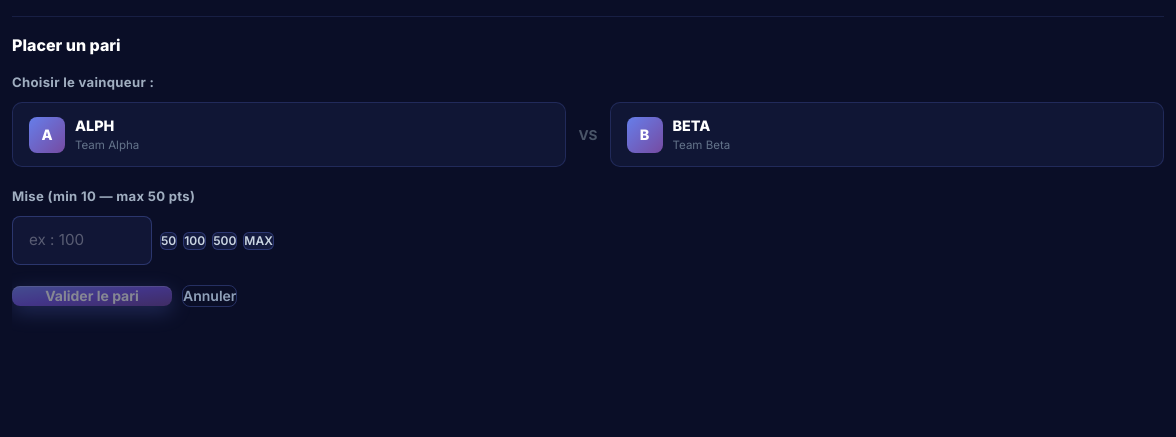
PariForm › affiche une erreur si mise supérieure au solde
Click the text "ALPH": (95, 126) [75,117,114,134]
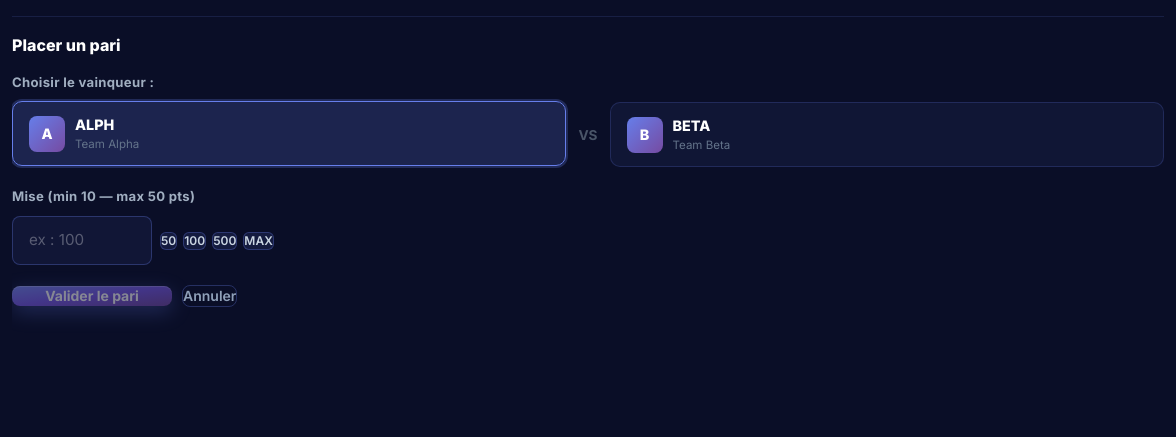
In the number field: (82, 241) [12,216,152,265], type "200"
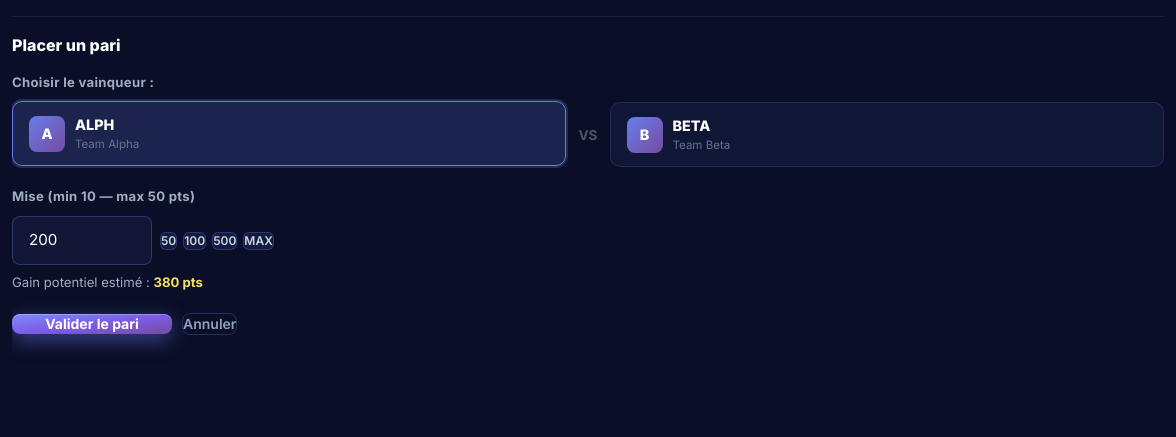
Submit the form named "Valider le pari", box [12,73,1164,335]
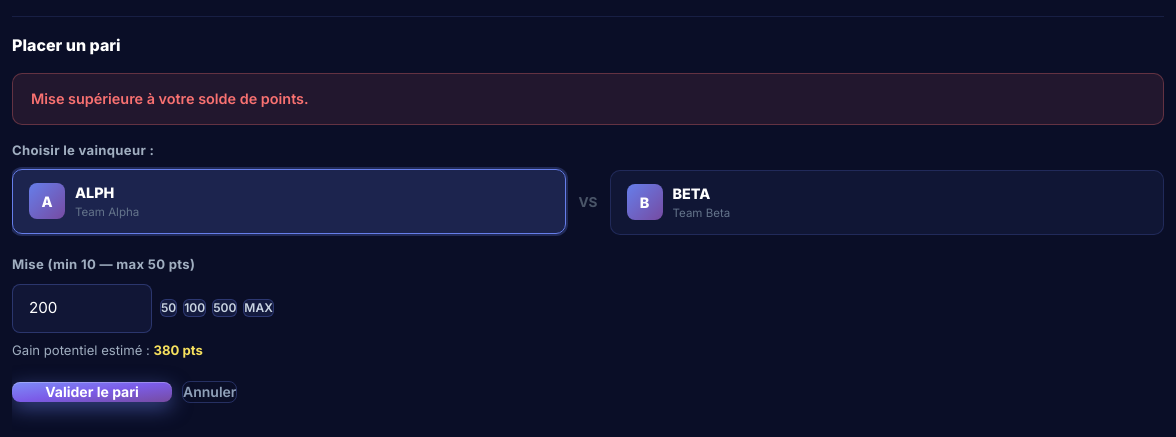
Now the text "Mise supérieure à votre solde de points." is shown, box [12,73,1164,125]
